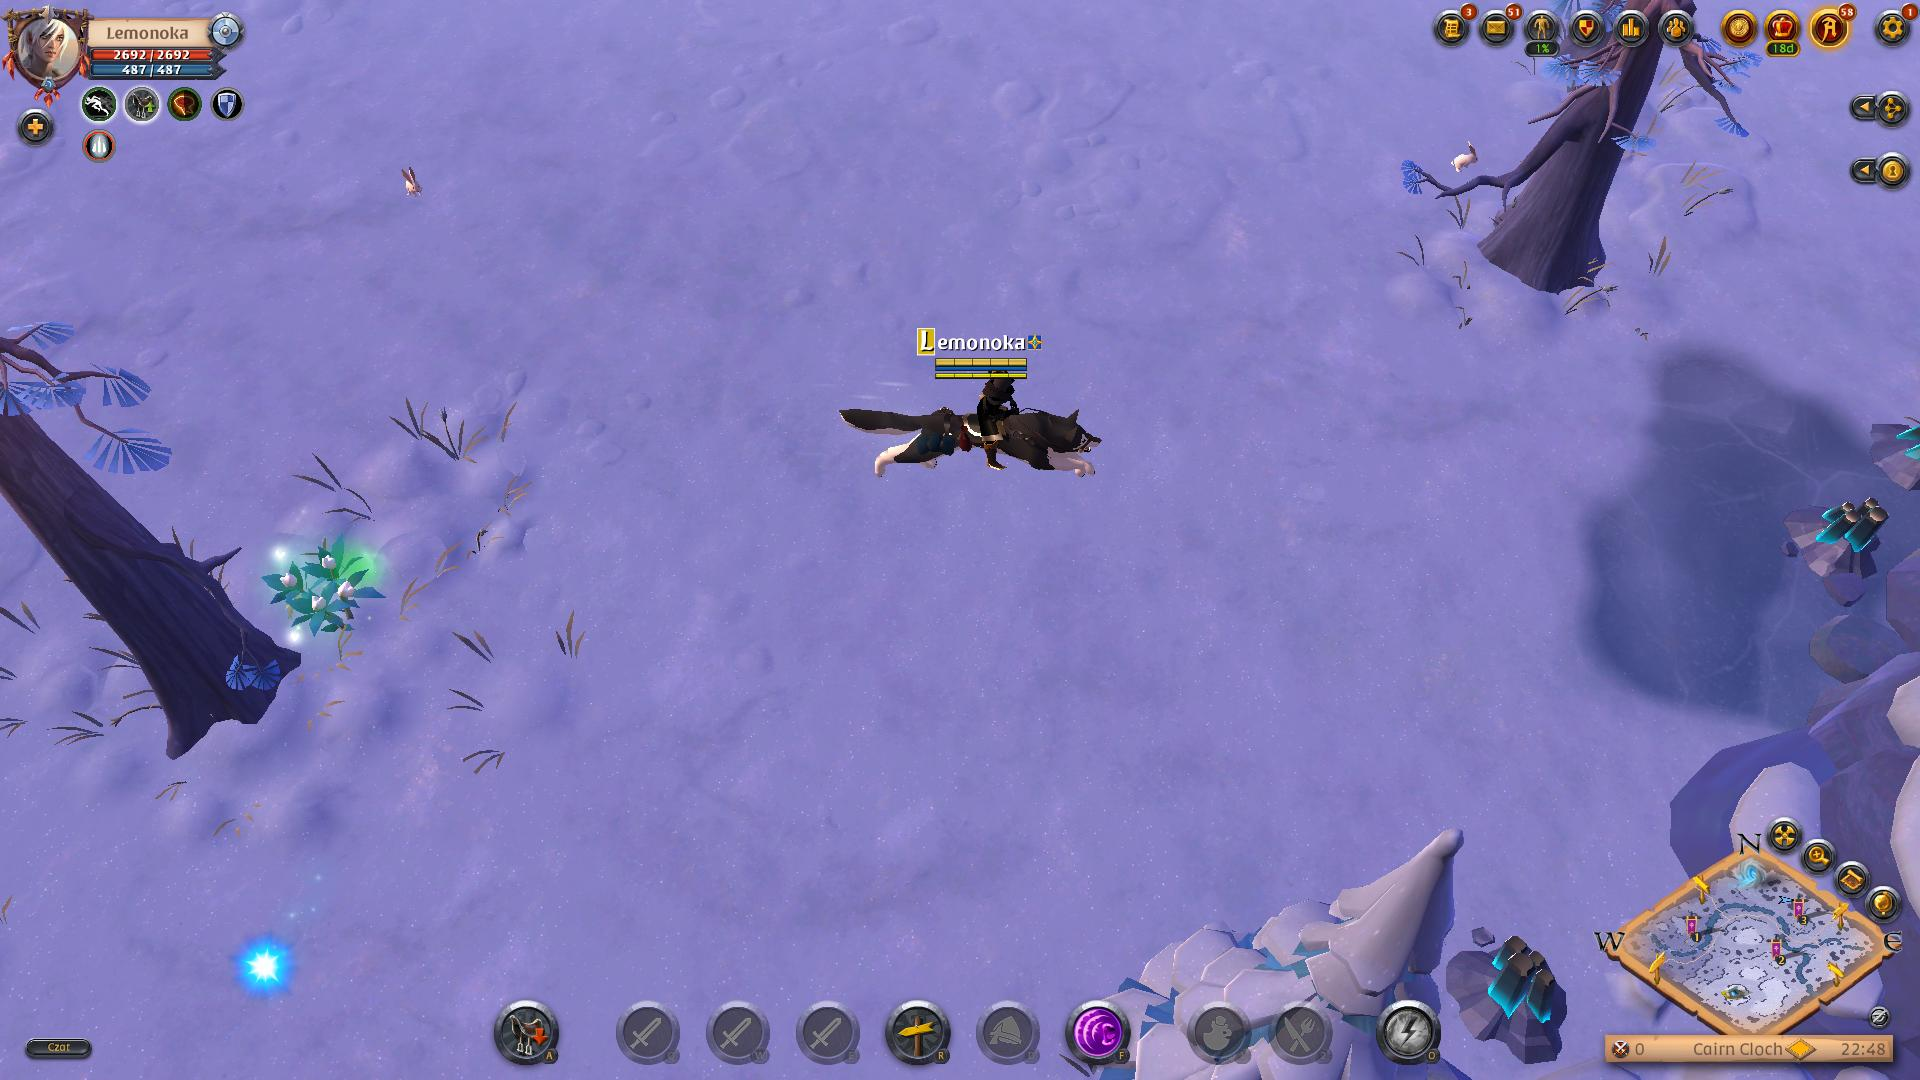fiber tier 4: (258, 529, 380, 665)
ore tier 4: (1452, 939, 1572, 1063), (1803, 495, 1887, 587)
